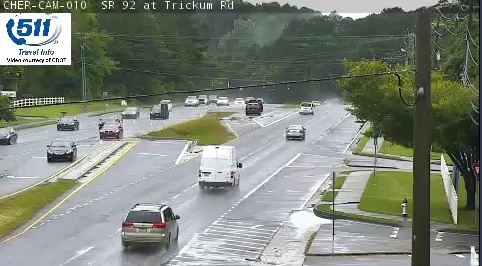car: (122, 205, 179, 243), (286, 125, 304, 139), (299, 102, 313, 114)
van: (198, 146, 240, 186)
